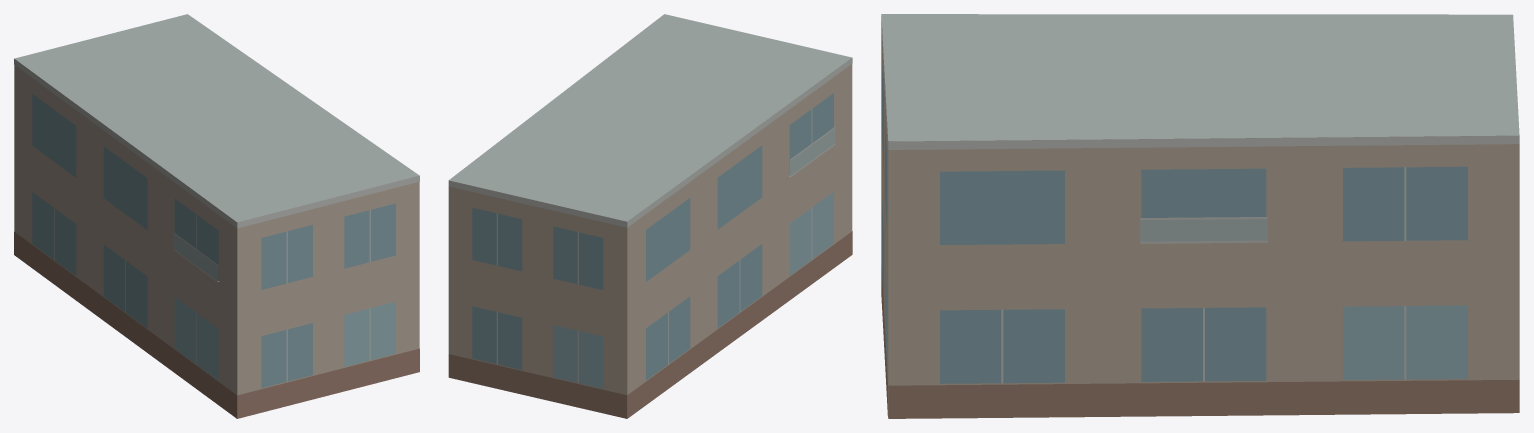
The model's file is survey-upis-32627563.glb.
3 renders of one model, left to right at view 1: azimuth 30°, elevation 25°; view 2: azimuth 150°, elevation 25°; view 3: azimuth 270°, elevation 25°, orthographic. The views are drawn at different scales.
Parts seen in each view (by area): view 1: survey-upis-32627563.tmp; view 2: survey-upis-32627563.tmp; view 3: survey-upis-32627563.tmp.
Part boxes in pixels (bbox=[...]): survey-upis-32627563.tmp: bbox=[14, 14, 419, 418]; survey-upis-32627563.tmp: bbox=[448, 14, 852, 418]; survey-upis-32627563.tmp: bbox=[881, 14, 1519, 418].
Size of the model in its own units: 7.87 by 7.95 by 16.59.
